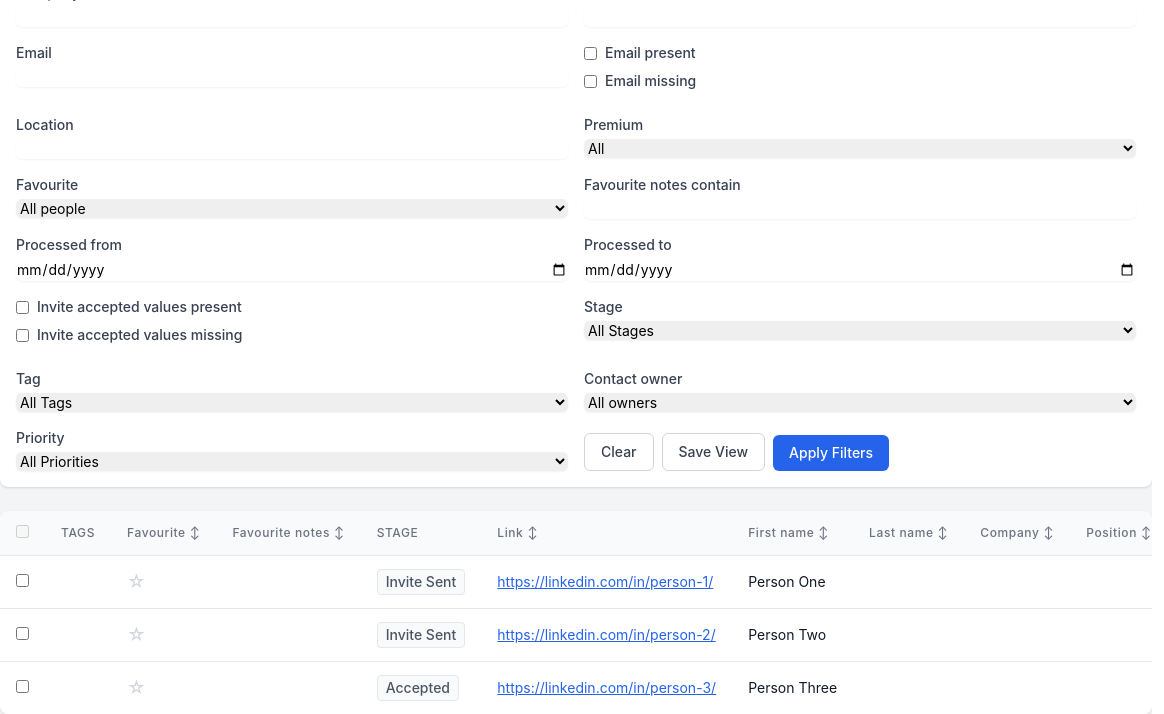
it: workspace-required pages › locks multi-row selection to the first selected category
(page scrolled)
Expected: the text "Person One" is shown, [732, 556, 853, 608]
Expected: the checkbox named "Select all eligible people" is disabled, [16, 525, 29, 538]
Click the checkbox named "Select Person One" at (22, 580), box [16, 574, 29, 587]
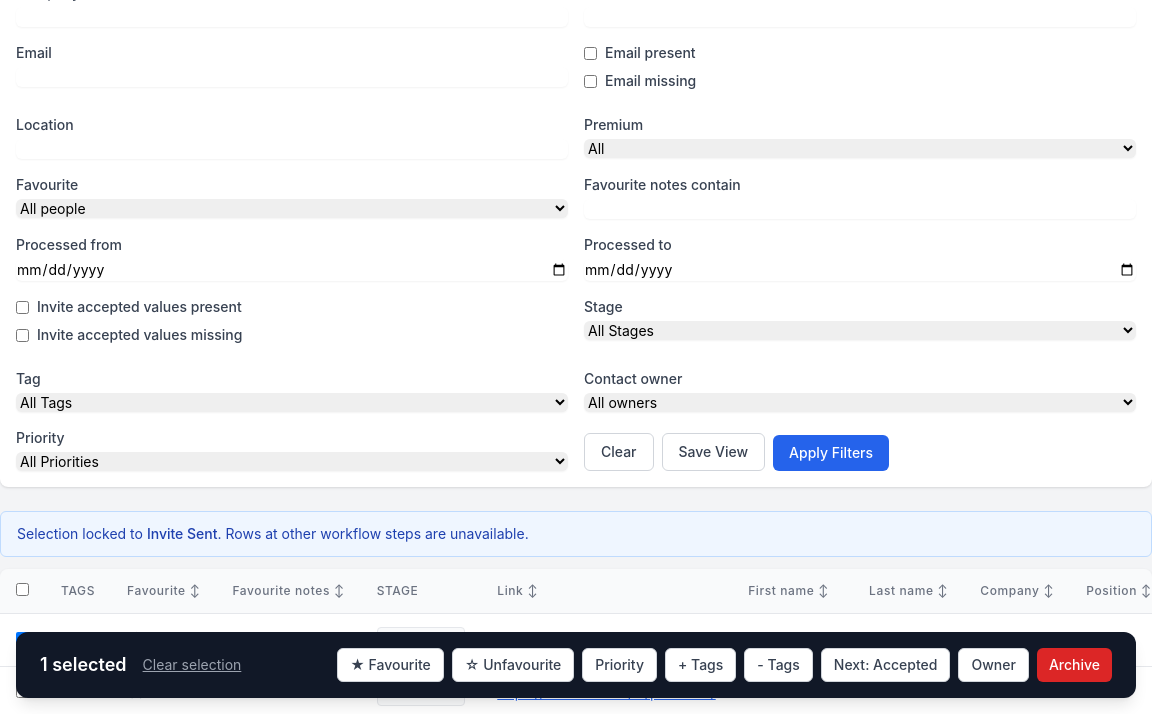
Expected: the checkbox named "Select Person Two" is enabled, [16, 685, 29, 698]
Now the text "Selection locked to" shows "Invite Sent", box [147, 525, 218, 542]
Now the checkbox named "Select all eligible people" is enabled, box [16, 583, 29, 596]
